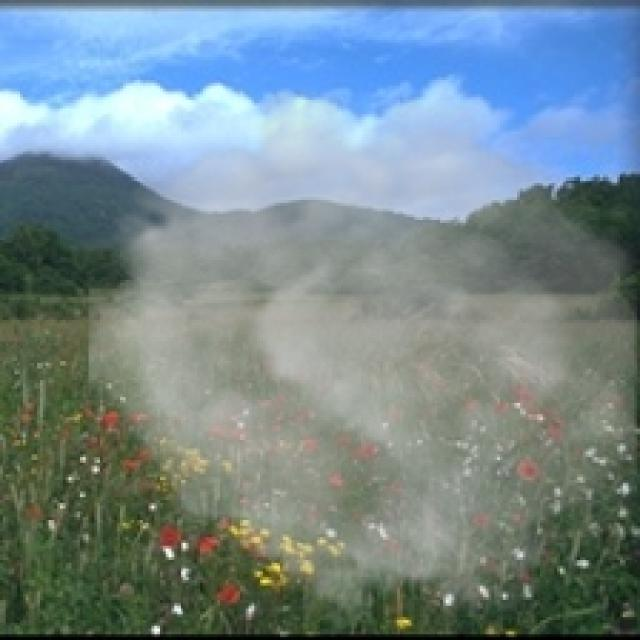smoke: (89, 86, 637, 634)
